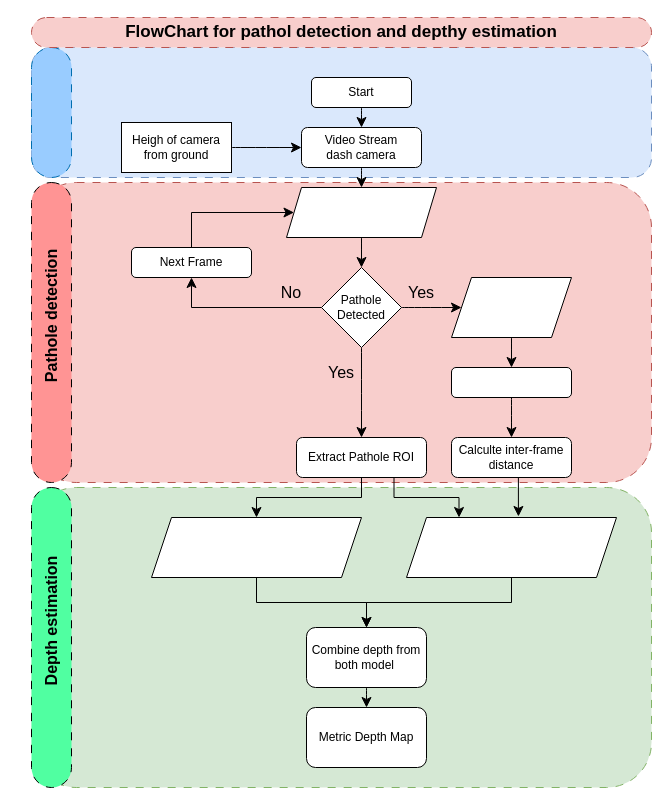
This 670x805 diagram has some shape labels left out. Here are the shapes that lost their labels. From the top down, the centre of each, then its label:
the point at 51,112: Input
the point at 361,212: Pathole detection YOLO model
the point at 511,307: Vehicle speed estimation model
the point at 511,382: Vehicle speed
the point at 256,547: Monocular Depth estimation
the point at 511,547: SFM (structure of motion) depth estimation
